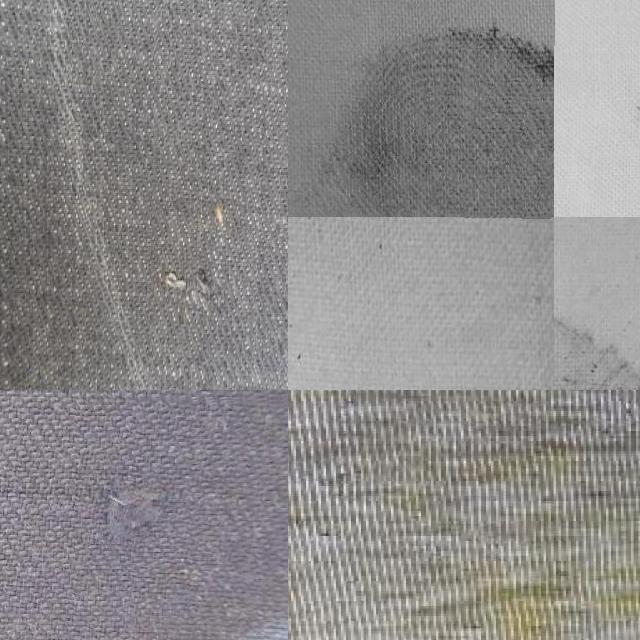Thread_other: (288, 0, 555, 218), (288, 217, 368, 347), (554, 297, 640, 390), (597, 41, 640, 209)
stains: (0, 393, 288, 618), (152, 0, 288, 389)
